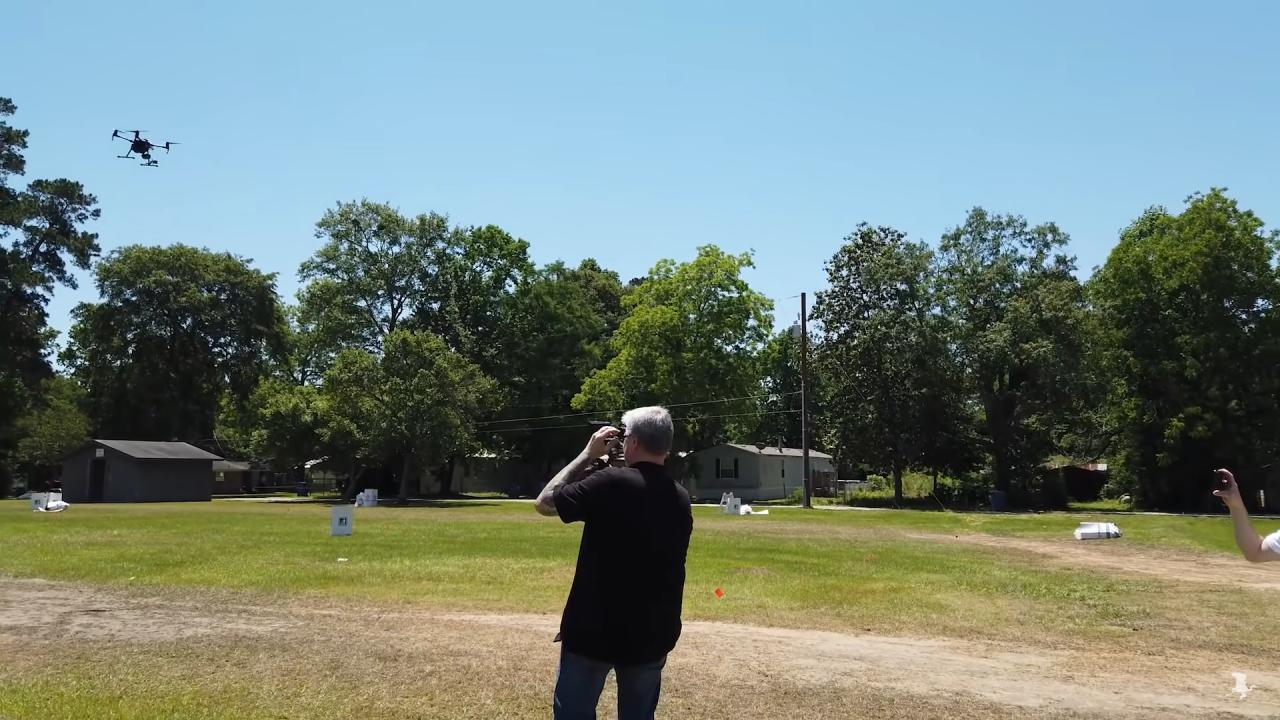Drone: (98, 118, 186, 178)
